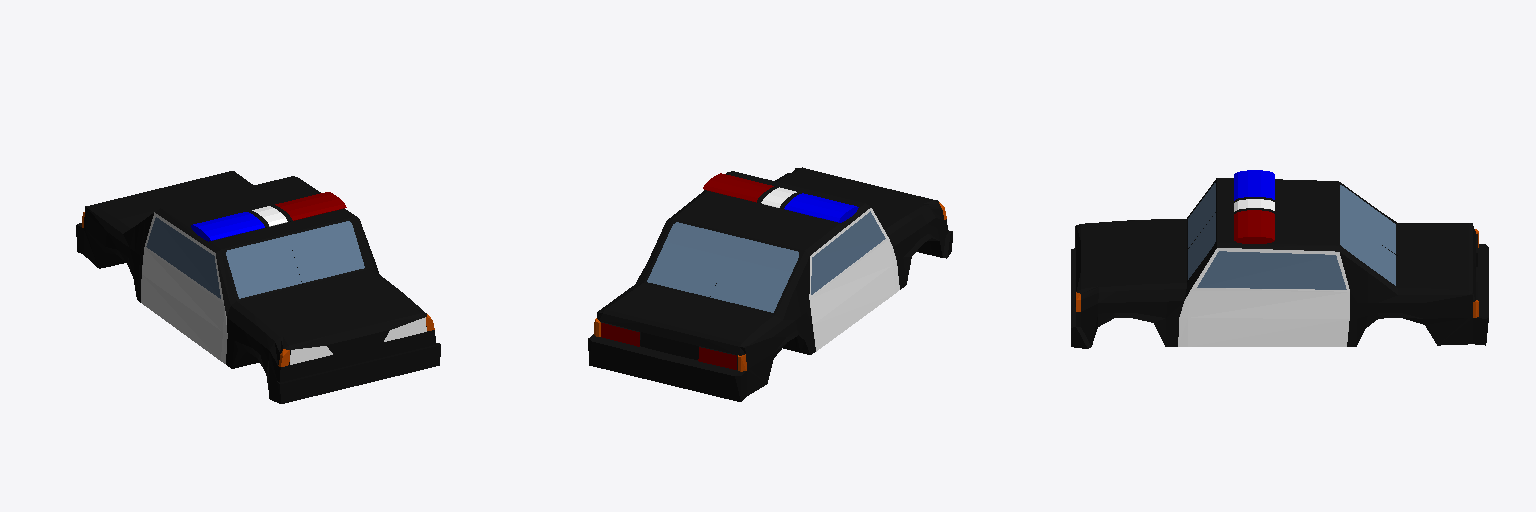
Rendered from police.obj.
3 renders of one model, left to right at view 1: azimuth 30°, elevation 25°; view 2: azimuth 150°, elevation 25°; view 3: azimuth 270°, elevation 25°, orthographic.
Parts seen in each view (by area): view 1: Cube_Cube.001, Cube.001_Cube.000; view 2: Cube_Cube.001, Cube.001_Cube.000; view 3: Cube_Cube.001, Cube.001_Cube.000.
Part boxes in pixels (x1,y1,x2,y2): Cube_Cube.001: (76,171,440,403); Cube.001_Cube.000: (191,192,346,241); Cube_Cube.001: (588,167,952,401); Cube.001_Cube.000: (703,173,858,222); Cube_Cube.001: (1071,178,1488,348); Cube.001_Cube.000: (1234,170,1274,243).
Bounding box in the file's own units: 2.32 × 1.4 × 5.04.